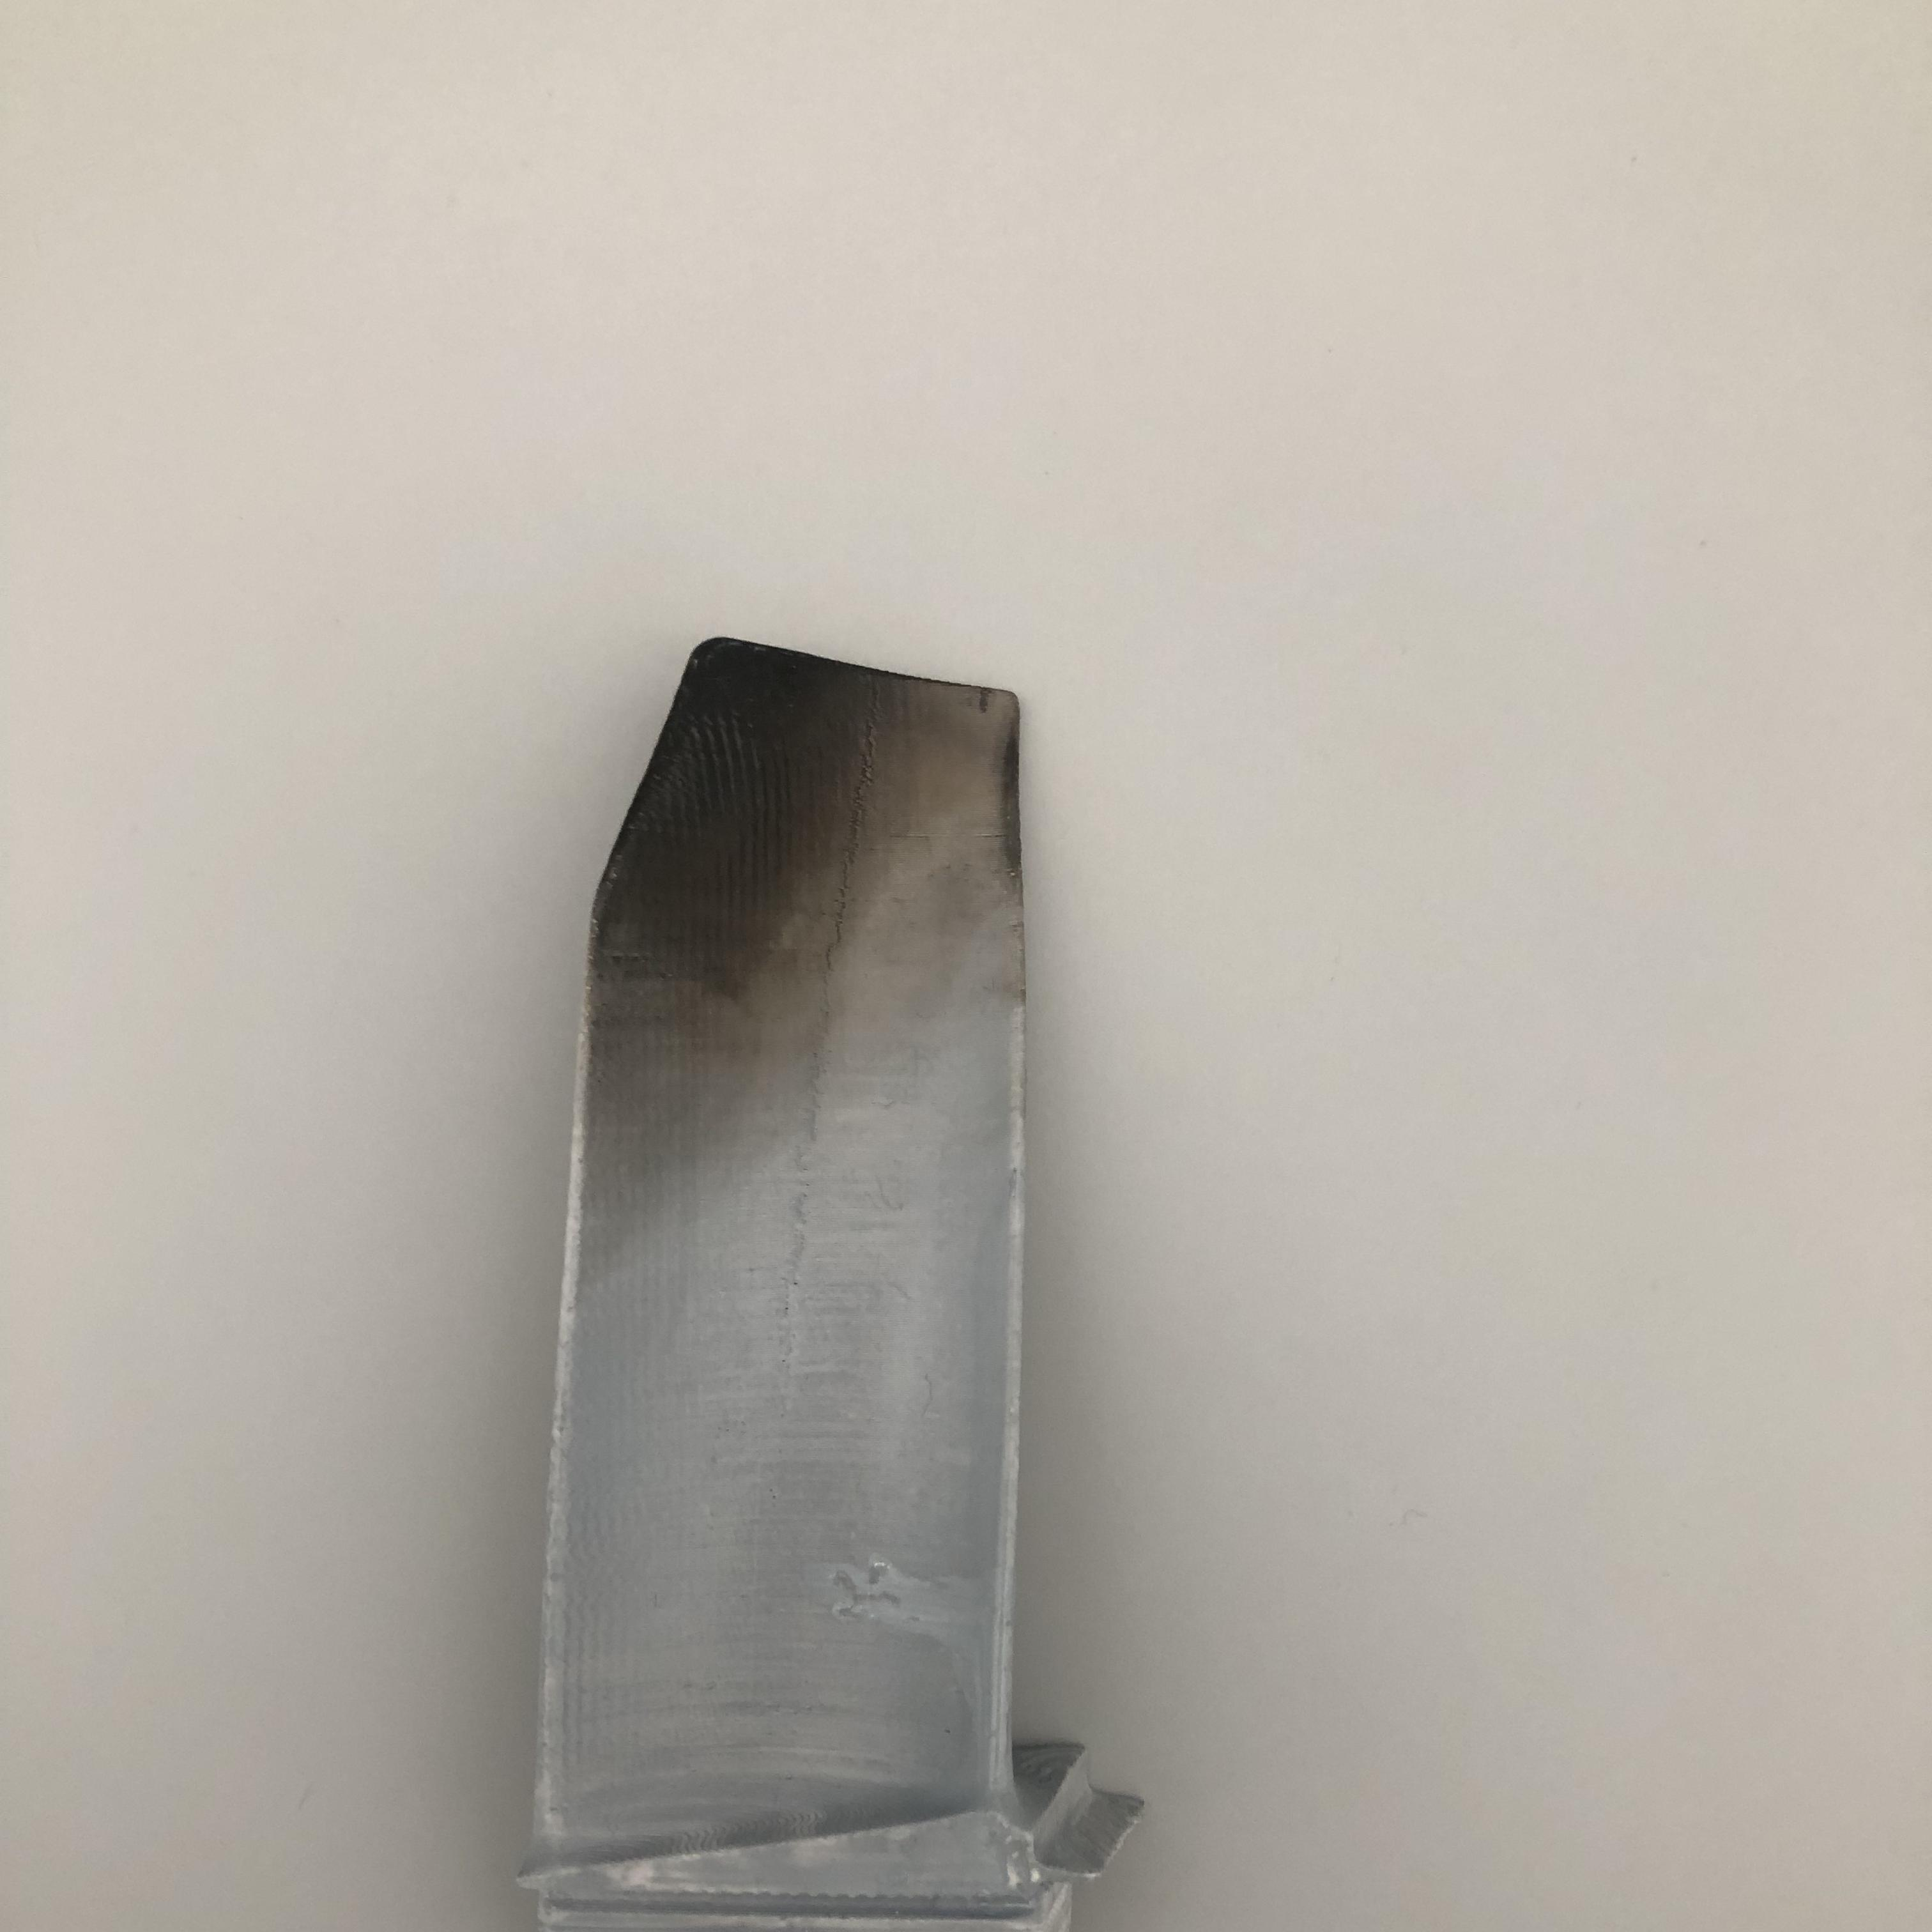ablation: (658, 695, 962, 1031)
